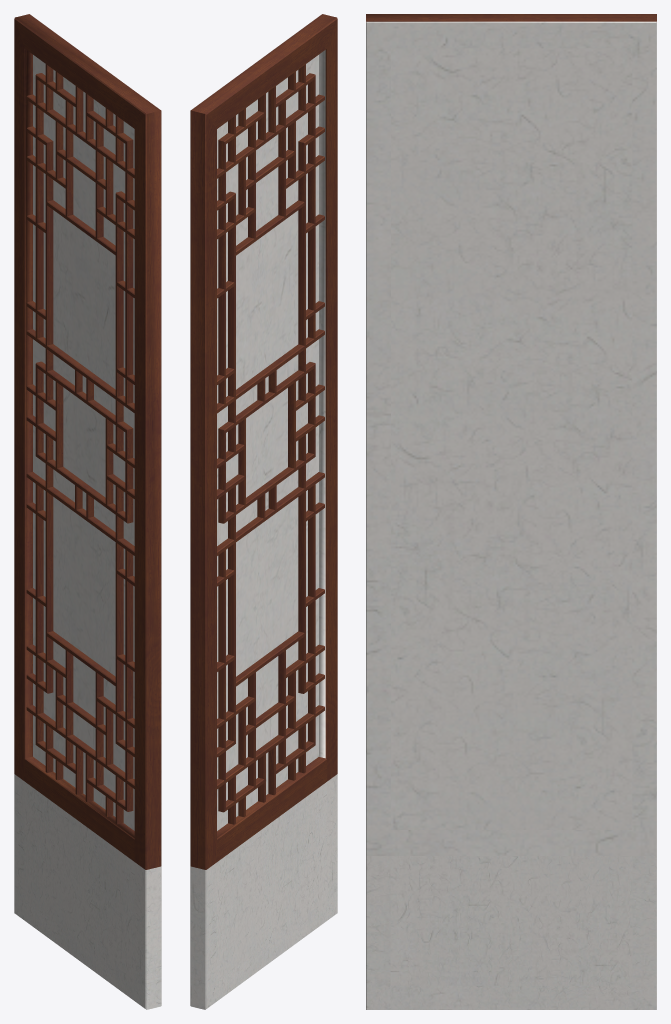
The model's file is SM_Door16B.fbx.
3 renders of one model, left to right at view 1: azimuth 30°, elevation 25°; view 2: azimuth 150°, elevation 25°; view 3: azimuth 270°, elevation 25°, orthographic. The views are drawn at different scales.
Parts seen in each view (by area): view 1: SM_Door16B; view 2: SM_Door16B; view 3: SM_Door16B.
Boxes of the visible parts, x1,y1,x2,y2 form: SM_Door16B: (14,14,161,1009); SM_Door16B: (190,14,337,1009); SM_Door16B: (366,14,656,1009).
Size of the model in its own units: 3.47 by 49.31 by 185.
